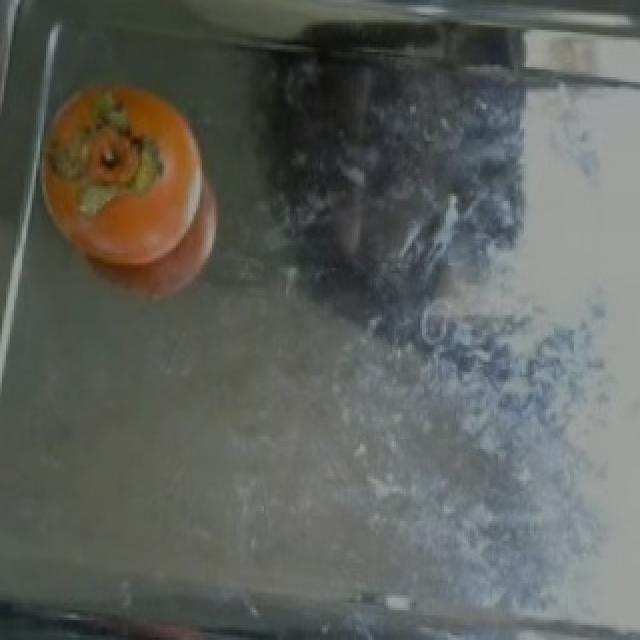Fruit: (22, 62, 232, 320)
